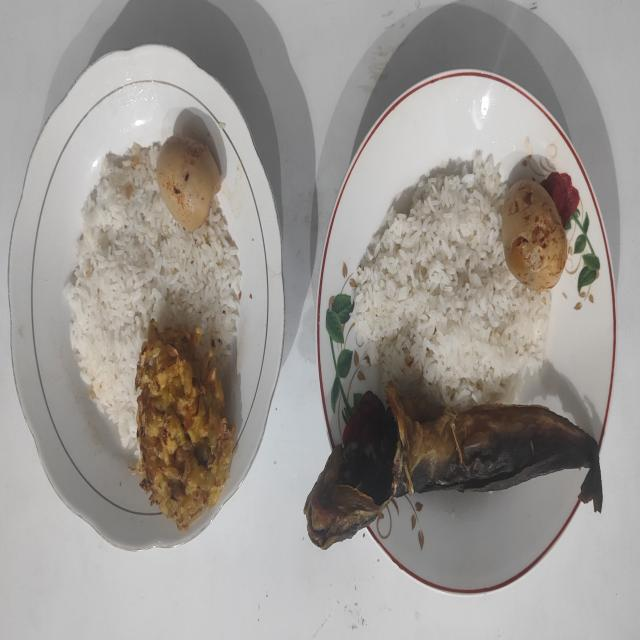nasi_putih: (68, 143, 243, 454), (352, 151, 551, 409)
